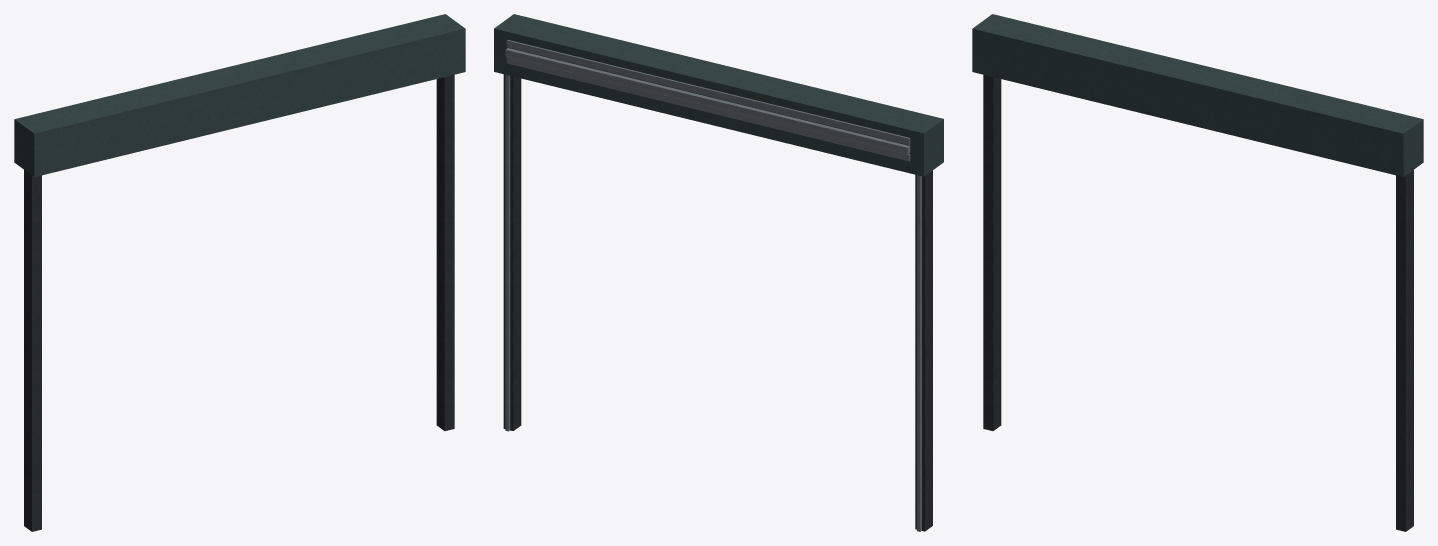
The model's file is Shop_Shutter_Raised.glb.
3 renders of one model, left to right at view 1: azimuth 30°, elevation 25°; view 2: azimuth 150°, elevation 25°; view 3: azimuth 330°, elevation 25°, orthographic.
Parts seen in each view (by area): view 1: VIS_powdercoat, VIS_darksteel; view 2: VIS_powdercoat, VIS_steel, VIS_darksteel; view 3: VIS_powdercoat, VIS_darksteel.
Part boxes in pixels (left/top/right/bottom): VIS_powdercoat: left=14, top=14, right=465, bottom=176; VIS_darksteel: left=24, top=74, right=454, bottom=531; VIS_powdercoat: left=494, top=14, right=943, bottom=176; VIS_steel: left=505, top=40, right=921, bottom=531; VIS_darksteel: left=503, top=74, right=932, bottom=531; VIS_powdercoat: left=972, top=14, right=1423, bottom=176; VIS_darksteel: left=983, top=74, right=1413, bottom=531.
Bounding box in the file's own units: 3.74 × 3.35 × 0.3375.
Materials: 3 (3 with a texture image).
